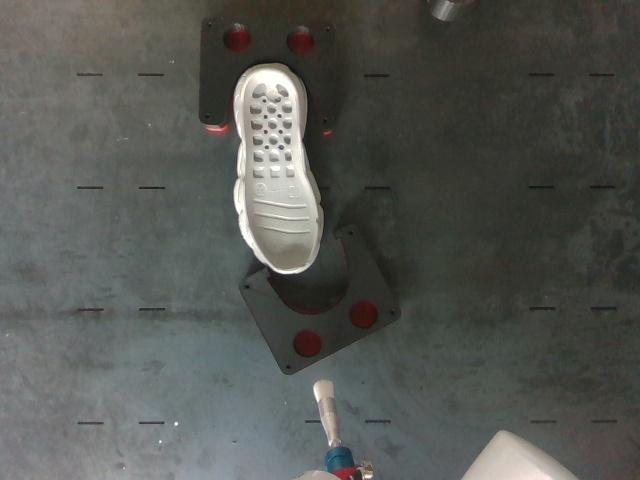shoes: (242, 69, 317, 272)
